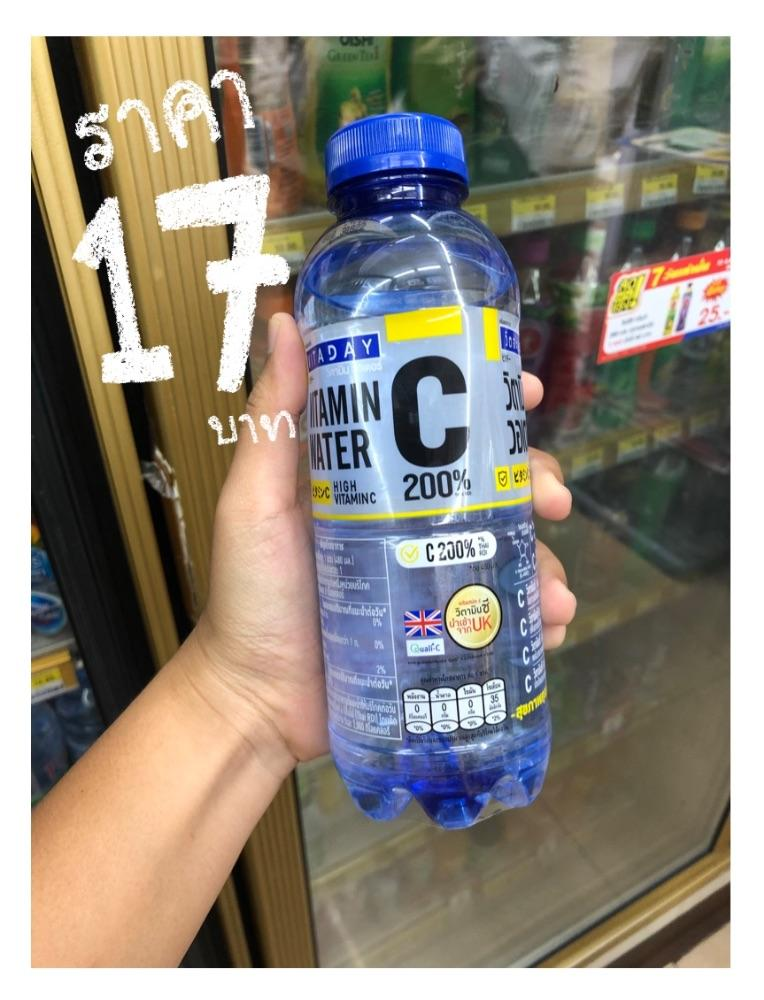plastic_bottle: (278, 108, 568, 848)
